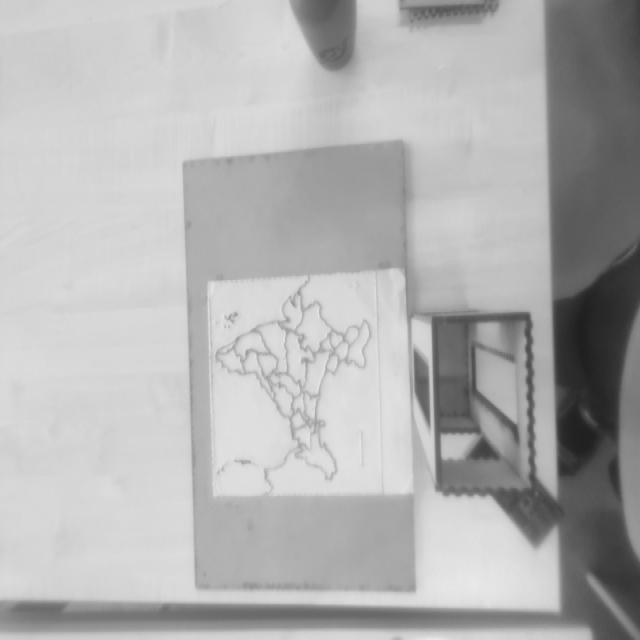map: (208, 271, 383, 500)
